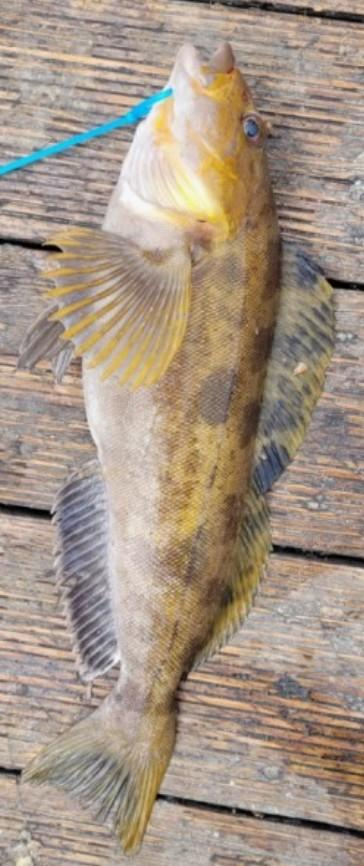fish: (19, 44, 331, 852)
